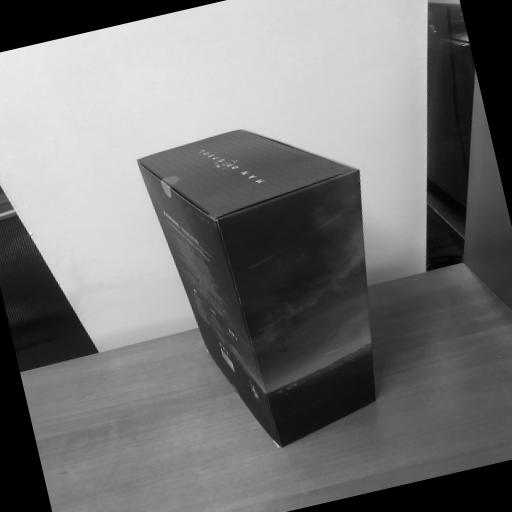superman: (134, 105, 415, 463)
